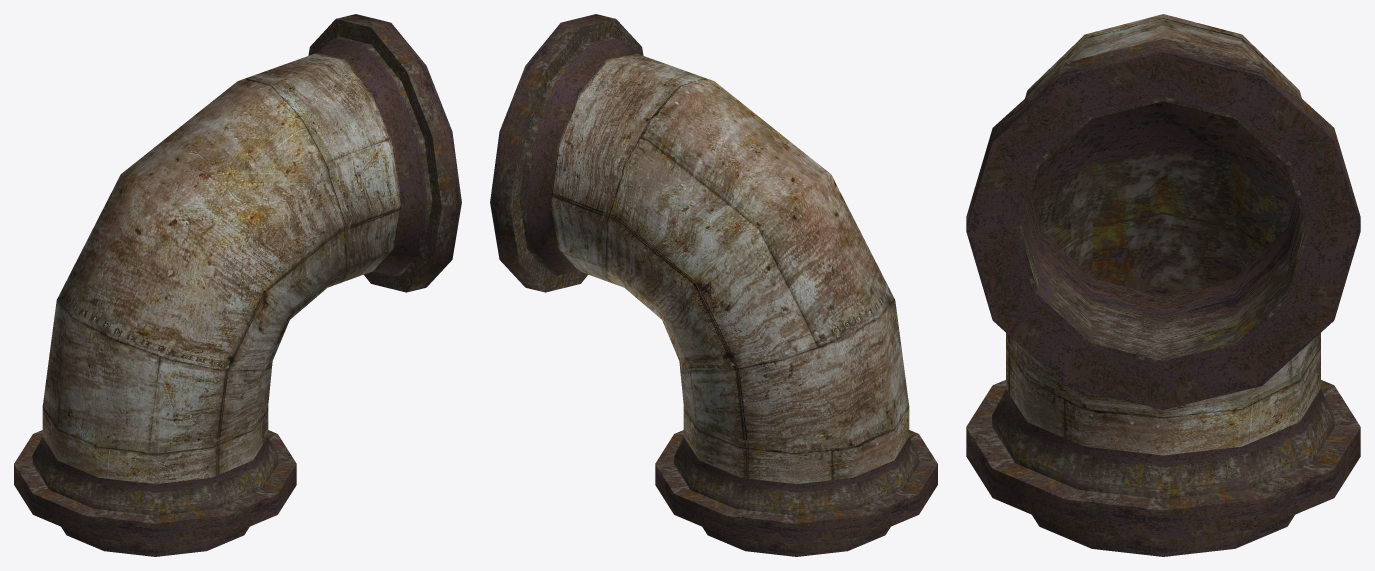
Rendered from railpipe04.glb.
3 views of the same model, side by side, from view 1: azimuth 30°, elevation 25°; view 2: azimuth 150°, elevation 25°; view 3: azimuth 270°, elevation 25° (orthographic). The views are drawn at different scales.
Size of the model in its own units: 121 by 140 by 82.76.
3 materials, 3 textured.
